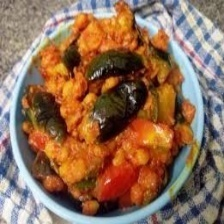sabzi: (13, 0, 201, 218)
